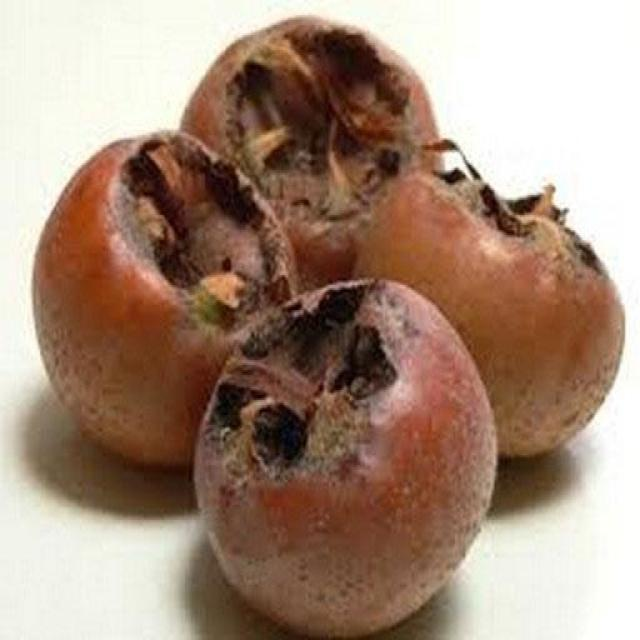organic: (32, 17, 626, 640)
